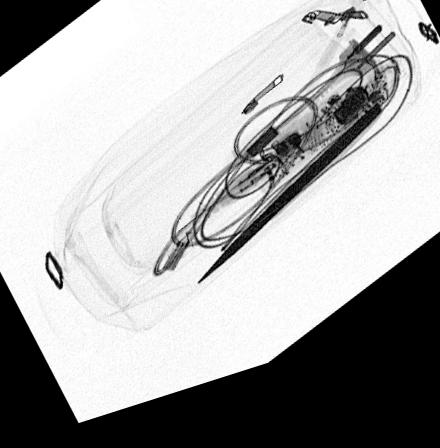Pliers: (188, 126, 388, 302)
